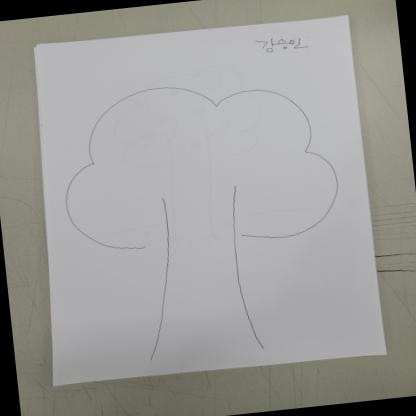crown_cloud: (52, 66, 348, 260)
trunk_straight: (138, 237, 262, 337)
